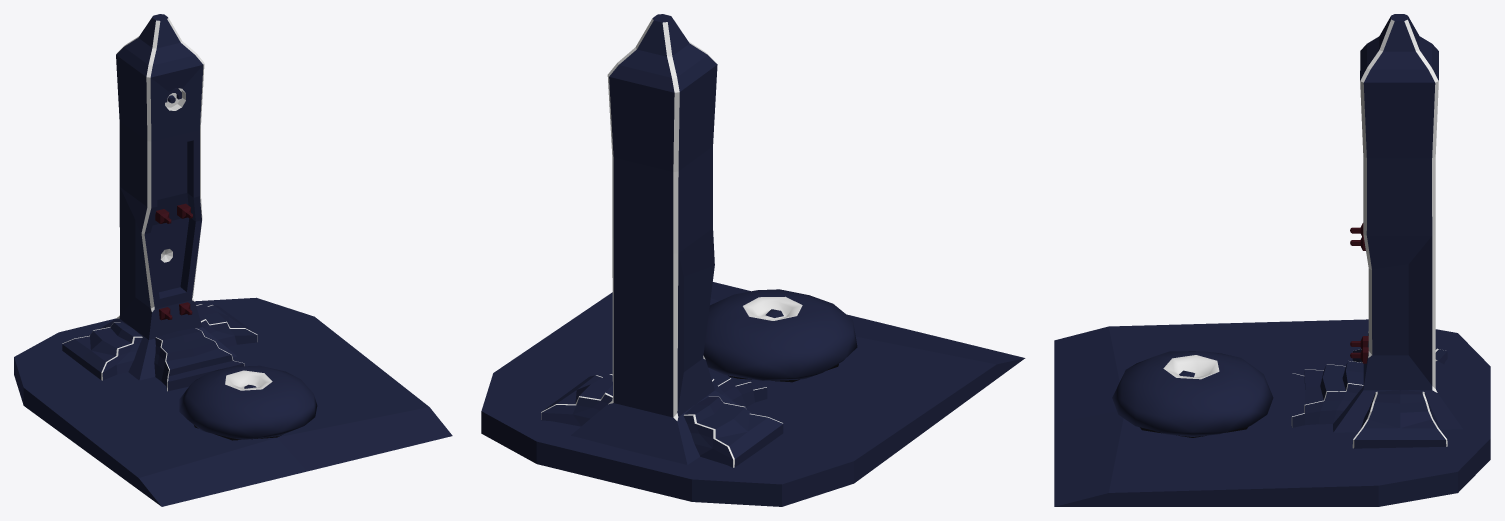
Rendered from model_Dungeon Shrine.fbx.
3 renders of one model, left to right at view 1: azimuth 30°, elevation 25°; view 2: azimuth 150°, elevation 25°; view 3: azimuth 270°, elevation 25°, orthographic. The views are drawn at different scales.
Visible parts, largest first — view 1: Platform, Main, Cover, Stairs; view 2: Platform, Main, Cover, Stairs; view 3: Platform, Main, Cover, Stairs.
Part boxes in pixels (x1,y1,x2,y2): Platform: (14,297,452,506); Main: (88,14,236,380); Cover: (179,365,317,439); Stairs: (62,304,257,391); Platform: (481,282,1025,506); Main: (571,14,753,464); Cover: (703,289,857,380); Stairs: (541,371,783,467); Platform: (1054,319,1490,506); Main: (1333,14,1463,432); Cover: (1112,351,1273,436); Stairs: (1291,348,1447,448).
Bounding box in the file's own units: 1093 × 1243 × 1211.
